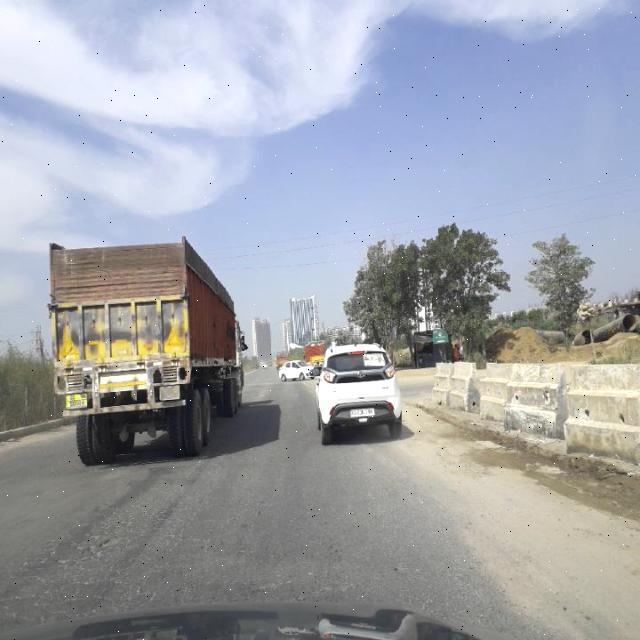D20: (1, 480, 259, 605)
D40: (70, 527, 129, 563)
